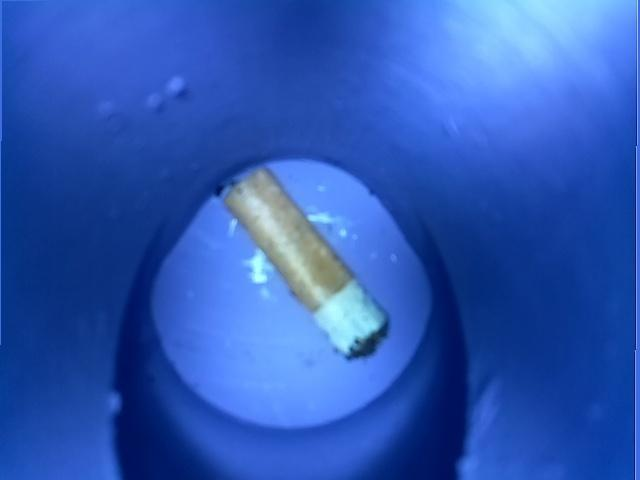megot: (202, 156, 396, 368)
